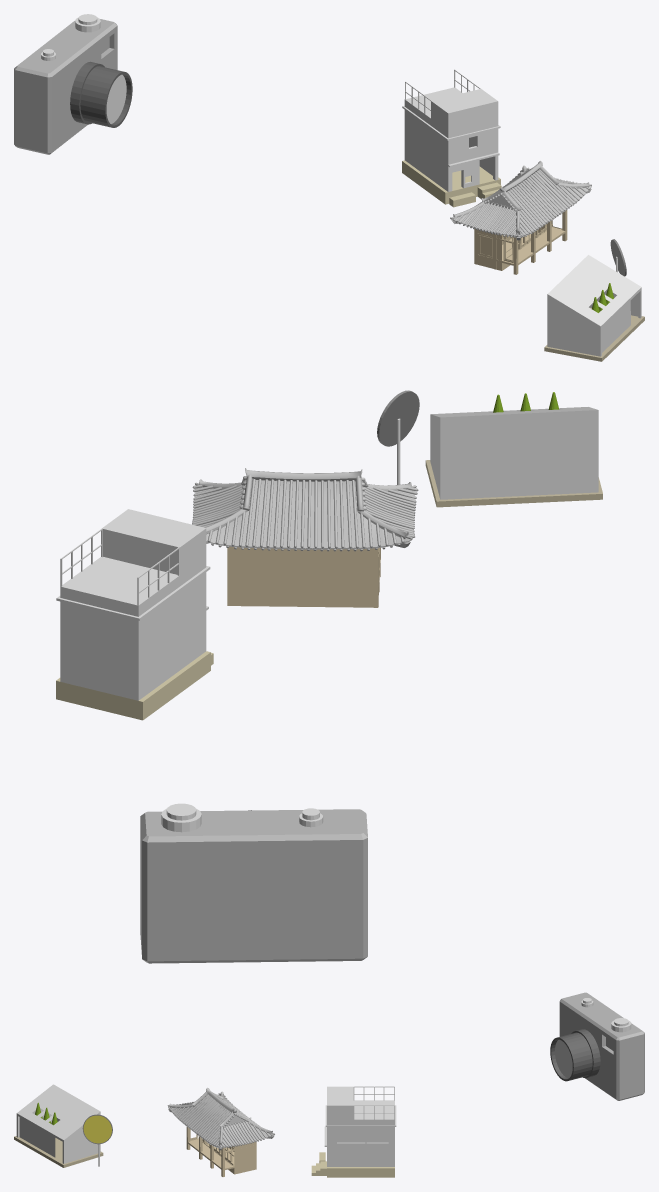
Rendered from iksun2.gltf.glb.
3 renders of one model, top to bottom at view 1: azimuth 30°, elevation 25°; view 2: azimuth 150°, elevation 25°; view 3: azimuth 270°, elevation 25°, orthographic. The views are drawn at different scales.
Parts seen in each view (by area): view 1: Cube.013, Cube, Cube.006, Plane001, Cylinder, Box001, Cube.009, Cube.007; view 2: Cube, Cube.013, Plane001, Cube.006, Box001, Cube.009, Cube.007, Cylinder.009, Cylinder.001; view 3: Cube.013, Cube, Cube.006, Plane001, Cylinder, Box001, Cube.009, Cylinder.009, Cube.007.
Boxes of the visible parts, x1,y1,x2,y2 form: Cube.013: (402,87,500,191); Cube: (14,19,117,154); Cube.006: (547,255,641,356); Plane001: (450,161,591,240); Cylinder: (70,61,132,127); Box001: (474,210,567,274); Cube.009: (402,160,500,204); Cube.007: (544,307,644,361); Cube: (140,809,367,963); Cube.013: (56,509,210,700); Plane001: (192,468,418,551); Cube.006: (430,407,598,499); Box001: (227,546,380,607); Cube.009: (56,651,210,720); Cube.007: (425,460,602,507); Cylinder.009: (377,390,419,446); Cylinder.001: (161,803,201,832); Cube.013: (324,1086,396,1166); Cube: (559,992,644,1100); Cube.006: (16,1084,100,1163); Plane001: (167,1087,274,1150); Cylinder: (550,1029,600,1081); Box001: (186,1127,256,1176); Cube.009: (327,1167,394,1177); Cylinder.009: (82,1114,112,1144); Cube.007: (14,1136,103,1167).
Size of the model in its own units: 31.03 by 7.84 by 63.05.
